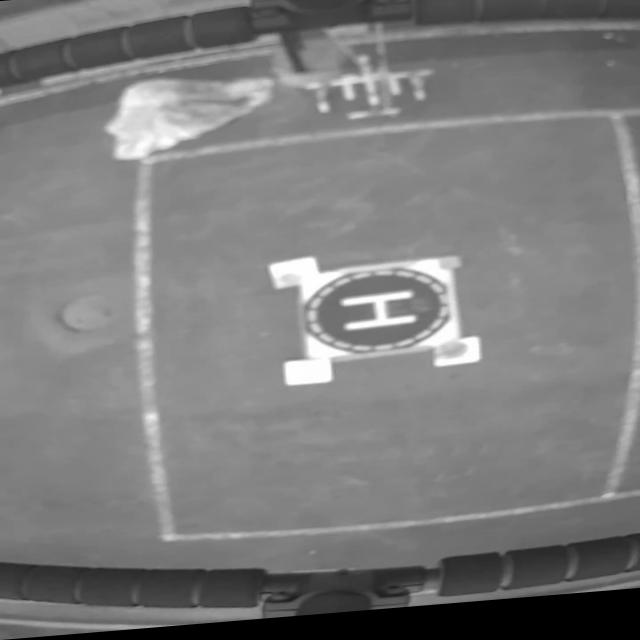Helipad: (344, 295, 415, 337)
